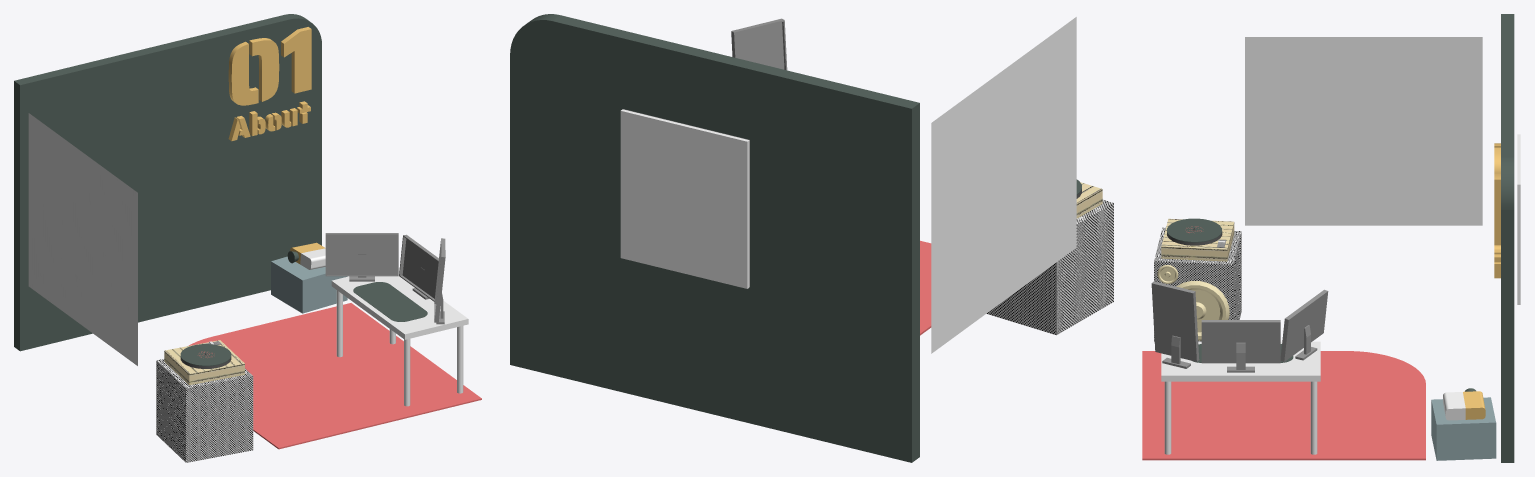
File: maxtower_01.glb
3 views of the same model, side by side, from view 1: azimuth 30°, elevation 25°; view 2: azimuth 150°, elevation 25°; view 3: azimuth 270°, elevation 25° (orthographic). The views are drawn at different scales.
Parts seen in each view (by area): view 1: group_39, group_22, group_36, group_28, group_15, group_3, group_24, group_11, group_21, instance_0.002, group_31, instance_0.001 (+3 smaller); view 2: group_39, group_36, group_37, group_28, group_19, group_22, group_31; view 3: group_36, group_22, group_39, group_11, group_3, group_24, group_19, group_28, group_15, group_31, group_33, group_37 (+7 smaller).
Boxes of the visible parts, left/top/right/bottom form: group_39: left=14, top=14, right=321, bottom=351; group_22: left=188, top=303, right=481, bottom=449; group_36: left=28, top=113, right=137, bottom=365; group_28: left=156, top=359, right=253, bottom=462; group_15: left=325, top=233, right=398, bottom=276; group_3: left=331, top=268, right=468, bottom=339; group_24: left=271, top=256, right=347, bottom=313; group_11: left=399, top=234, right=438, bottom=301; group_21: left=353, top=282, right=427, bottom=321; instance_0.002: left=281, top=27, right=311, bottom=93; group_31: left=164, top=340, right=244, bottom=385; instance_0.001: left=228, top=41, right=258, bottom=105; group_39: left=510, top=14, right=919, bottom=462; group_36: left=931, top=17, right=1076, bottom=353; group_37: left=620, top=109, right=749, bottom=288; group_28: left=986, top=199, right=1113, bottom=335; group_19: left=731, top=18, right=787, bottom=70; group_22: left=920, top=240, right=931, bottom=335; group_31: left=1076, top=182, right=1102, bottom=218; group_36: left=1245, top=37, right=1482, bottom=225; group_22: left=1142, top=351, right=1425, bottom=460; group_39: left=1501, top=14, right=1514, bottom=462; group_11: left=1201, top=320, right=1280, bottom=363; group_3: left=1161, top=341, right=1320, bottom=381; group_24: left=1431, top=397, right=1496, bottom=460; group_19: left=1151, top=281, right=1199, bottom=361; group_28: left=1154, top=227, right=1241, bottom=341; group_15: left=1280, top=289, right=1328, bottom=361; group_31: left=1161, top=218, right=1234, bottom=261; group_33: left=1167, top=218, right=1222, bottom=242; group_37: left=1517, top=134, right=1520, bottom=304.
Size of the model in its own units: 2.9 by 2.44 by 2.9.
Materials: 10 (2 with a texture image).
